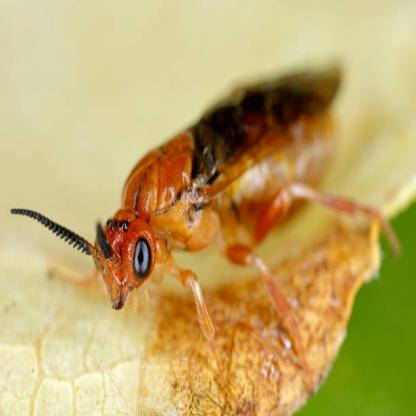sawfly: (7, 60, 411, 415)
